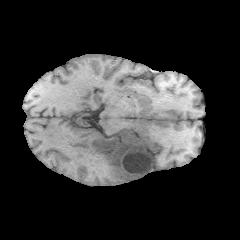glioma: (87, 129, 154, 180)
